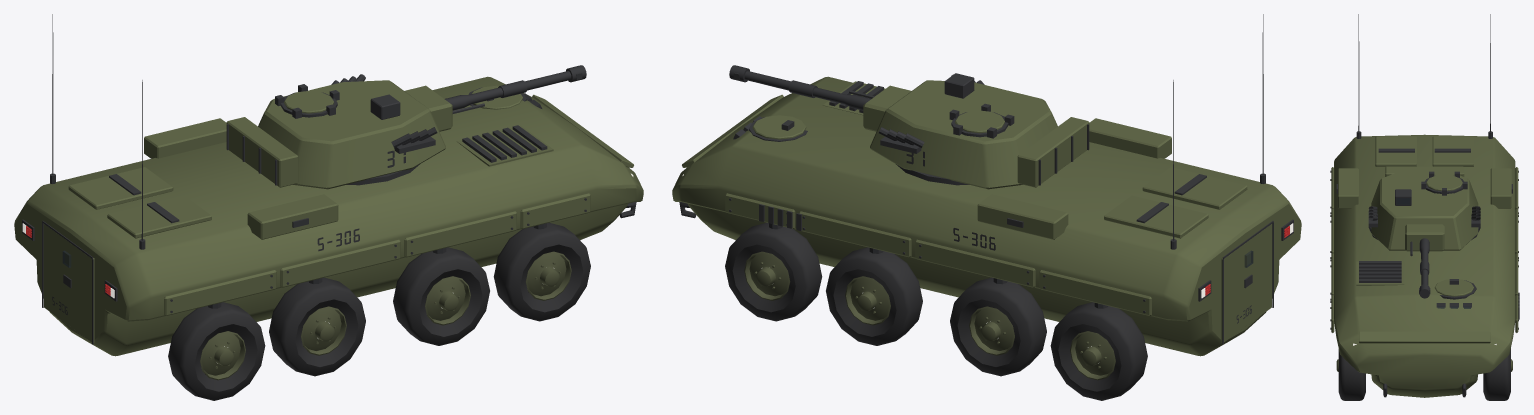
Rendered from army_apc.glb.
The picture shows the model from 3 angles, left to right: view 1: azimuth 30°, elevation 25°; view 2: azimuth 150°, elevation 25°; view 3: azimuth 270°, elevation 25°; orthographic projection. The views are drawn at different scales.
Visible parts, largest first — view 1: Body, Turret, Wheel_RR, Wheel_F2R, Wheel_FR, Wheel_R2R, Gun; view 2: Body, Turret, Wheel_RL, Wheel_F2L, Wheel_R2L, Wheel_FL, Gun; view 3: Body, Turret, Gun, Wheel_FR, Wheel_FL.
Boxes of the visible parts, <box> form: Body: <box>14,14,643,356</box>; Turret: <box>226,74,445,189</box>; Wheel_RR: <box>168,302,265,400</box>; Wheel_F2R: <box>393,247,489,345</box>; Wheel_FR: <box>493,222,590,321</box>; Wheel_R2R: <box>269,277,365,376</box>; Gun: <box>404,65,586,131</box>; Body: <box>672,14,1301,356</box>; Turret: <box>870,73,1089,189</box>; Wheel_RL: <box>1050,302,1147,400</box>; Wheel_F2L: <box>826,247,922,345</box>; Wheel_R2L: <box>950,277,1046,376</box>; Wheel_FL: <box>725,222,822,321</box>; Gun: <box>729,65,911,131</box>; Body: <box>1330,14,1519,397</box>; Turret: <box>1368,166,1480,250</box>; Gun: <box>1405,224,1444,298</box>; Wheel_FR: <box>1336,349,1365,400</box>; Wheel_FL: <box>1483,348,1512,400</box>.
Size of the model in its own units: 7.01 by 4.05 by 2.87.
Materials: 7 (3 with a texture image).
